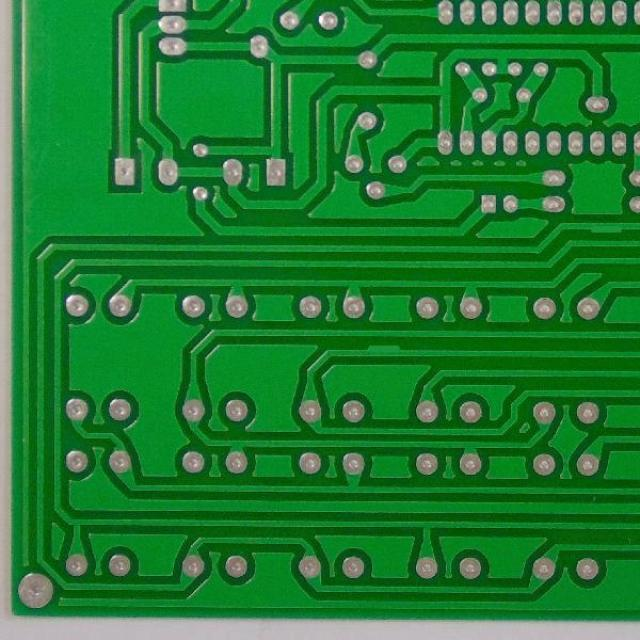spur: (358, 337, 406, 363), (584, 220, 628, 240)
